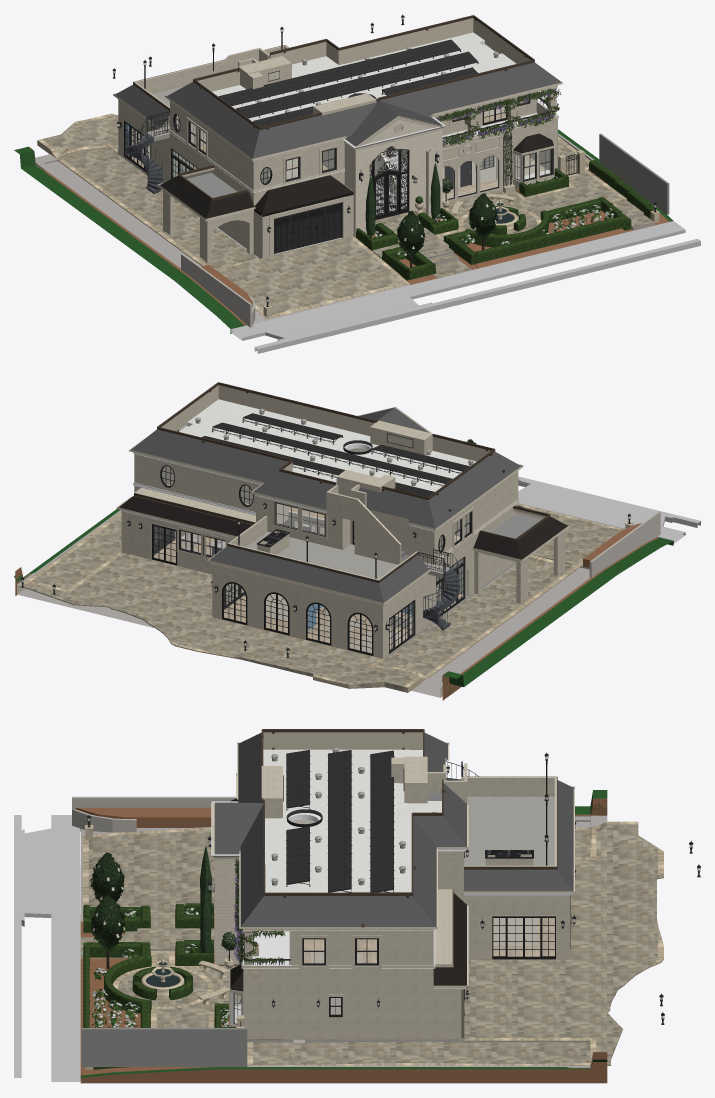
The model's file is exterior-house-51e9e303f8cf.glb.
3 views of the same model, one above another, from view 1: azimuth 30°, elevation 25°; view 2: azimuth 150°, elevation 25°; view 3: azimuth 270°, elevation 25° (orthographic). The views are drawn at different scales.
Parts seen in each view (by area): view 1: exterior-house-2097c6bf0b01330b, exterior-house-b5dfe7249a3eb059, exterior-house-e7e6fa835f441169, exterior-house-27d577fbd7f2ff4b, exterior-house-aee2d046b0172b1e, exterior-house-772a07b3069847f0, exterior-house-e33d7b378dc851e2, exterior-house-d56ee2a9d54b1fc2, exterior-house-8ae50a6395ceb8a4, exterior-house-982408871810a50e, exterior-house-0b9d5d1cd0b2c60f, exterior-house-7cf8e5cfa8b264af (+46 smaller); view 2: exterior-house-37d1b262fca80116, exterior-house-d56ee2a9d54b1fc2, exterior-house-27d577fbd7f2ff4b, exterior-house-8ae50a6395ceb8a4, exterior-house-969b861f9850351e, exterior-house-aee2d046b0172b1e, exterior-house-c91f911e25c8cae7, exterior-house-5febae1537653d02, exterior-house-b5dfe7249a3eb059, exterior-house-3763e2fb8578d282, exterior-house-2c1fd33d433632d0, exterior-house-0cae3eb2f2d52fad (+38 smaller); view 3: exterior-house-37d1b262fca80116, exterior-house-aee2d046b0172b1e, exterior-house-b5dfe7249a3eb059, exterior-house-d56ee2a9d54b1fc2, exterior-house-2097c6bf0b01330b, exterior-house-2c1fd33d433632d0, exterior-house-07f5bde4319b7ab4, exterior-house-e7e6fa835f441169, exterior-house-a75a0c9c223328ee, exterior-house-ded88bd99590d377, exterior-house-af97eba351c411ae, exterior-house-982408871810a50e (+53 smaller).
Part boxes in pixels (bbox=[...]): exterior-house-2097c6bf0b01330b: bbox=[216, 236, 409, 318]; exterior-house-b5dfe7249a3eb059: bbox=[230, 221, 685, 340]; exterior-house-e7e6fa835f441169: bbox=[356, 175, 625, 280]; exterior-house-27d577fbd7f2ff4b: bbox=[57, 147, 260, 269]; exterior-house-aee2d046b0172b1e: bbox=[14, 129, 673, 333]; exterior-house-772a07b3069847f0: bbox=[254, 238, 700, 353]; exterior-house-e33d7b378dc851e2: bbox=[380, 62, 560, 115]; exterior-house-d56ee2a9d54b1fc2: bbox=[212, 32, 516, 121]; exterior-house-8ae50a6395ceb8a4: bbox=[35, 133, 594, 323]; exterior-house-982408871810a50e: bbox=[435, 170, 626, 240]; exterior-house-0b9d5d1cd0b2c60f: bbox=[236, 51, 478, 118]; exterior-house-7cf8e5cfa8b264af: bbox=[218, 39, 461, 105]; exterior-house-37d1b262fca80116: bbox=[18, 552, 427, 692]; exterior-house-d56ee2a9d54b1fc2: bbox=[181, 399, 476, 491]; exterior-house-27d577fbd7f2ff4b: bbox=[377, 555, 580, 677]; exterior-house-8ae50a6395ceb8a4: bbox=[17, 503, 624, 697]; exterior-house-969b861f9850351e: bbox=[212, 566, 380, 657]; exterior-house-aee2d046b0172b1e: bbox=[14, 509, 673, 700]; exterior-house-c91f911e25c8cae7: bbox=[131, 429, 288, 482]; exterior-house-5febae1537653d02: bbox=[209, 546, 383, 602]; exterior-house-b5dfe7249a3eb059: bbox=[518, 484, 685, 543]; exterior-house-3763e2fb8578d282: bbox=[134, 454, 259, 512]; exterior-house-2c1fd33d433632d0: bbox=[28, 512, 121, 589]; exterior-house-0cae3eb2f2d52fad: bbox=[428, 451, 520, 528]; exterior-house-37d1b262fca80116: bbox=[464, 821, 663, 1065]; exterior-house-aee2d046b0172b1e: bbox=[80, 790, 607, 1083]; exterior-house-b5dfe7249a3eb059: bbox=[24, 815, 81, 1081]; exterior-house-d56ee2a9d54b1fc2: bbox=[263, 749, 441, 892]; exterior-house-2097c6bf0b01330b: bbox=[83, 828, 214, 921]; exterior-house-2c1fd33d433632d0: bbox=[247, 1041, 590, 1065]; exterior-house-07f5bde4319b7ab4: bbox=[81, 1028, 247, 1066]; exterior-house-e7e6fa835f441169: bbox=[83, 903, 228, 1027]; exterior-house-a75a0c9c223328ee: bbox=[241, 896, 436, 926]; exterior-house-ded88bd99590d377: bbox=[464, 796, 554, 865]; exterior-house-af97eba351c411ae: bbox=[372, 979, 461, 1038]; exterior-house-982408871810a50e: bbox=[112, 951, 240, 1027].
Bounding box in the file's own units: 31.9 × 8.68 × 35.2.
110 materials, 31 textured.
